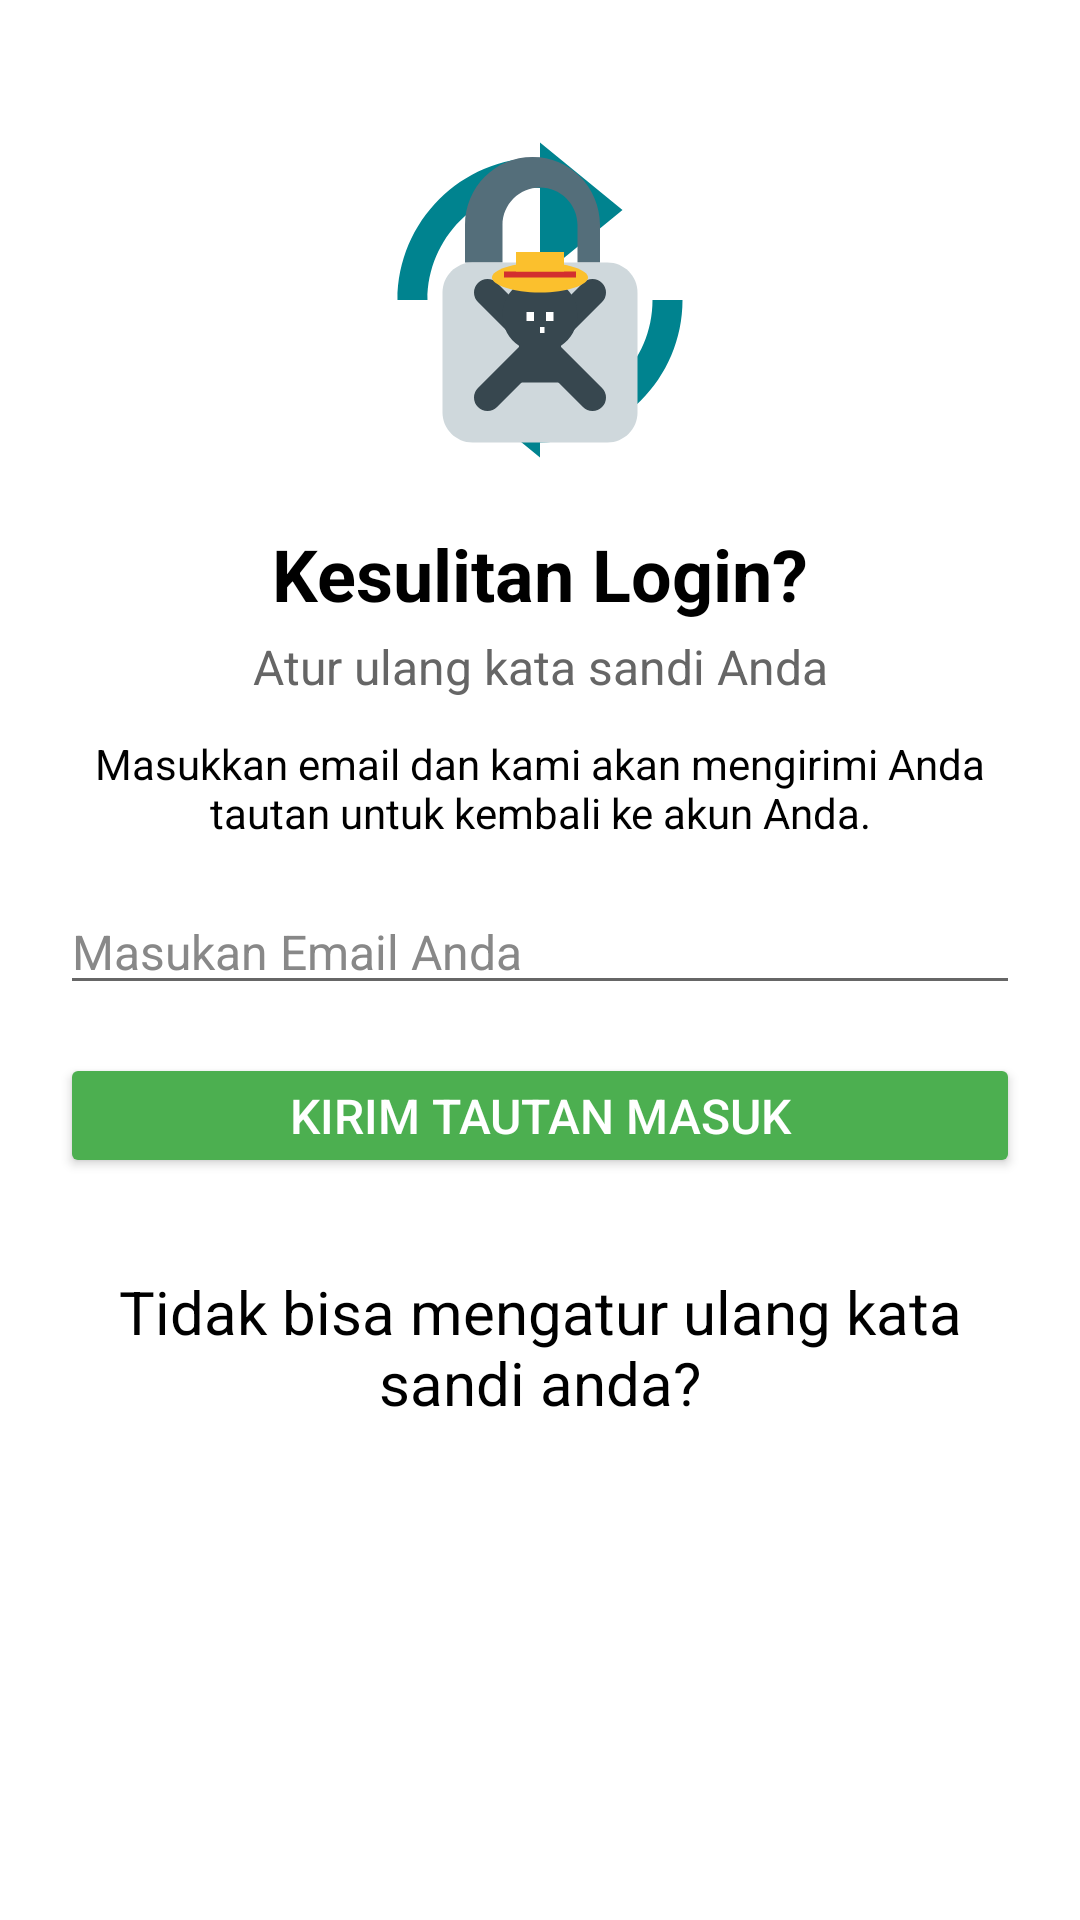

Where to tap for icons on this 1080 × 1920 app screen, as point (x, y):
Icon Gembok: point (540, 300)
